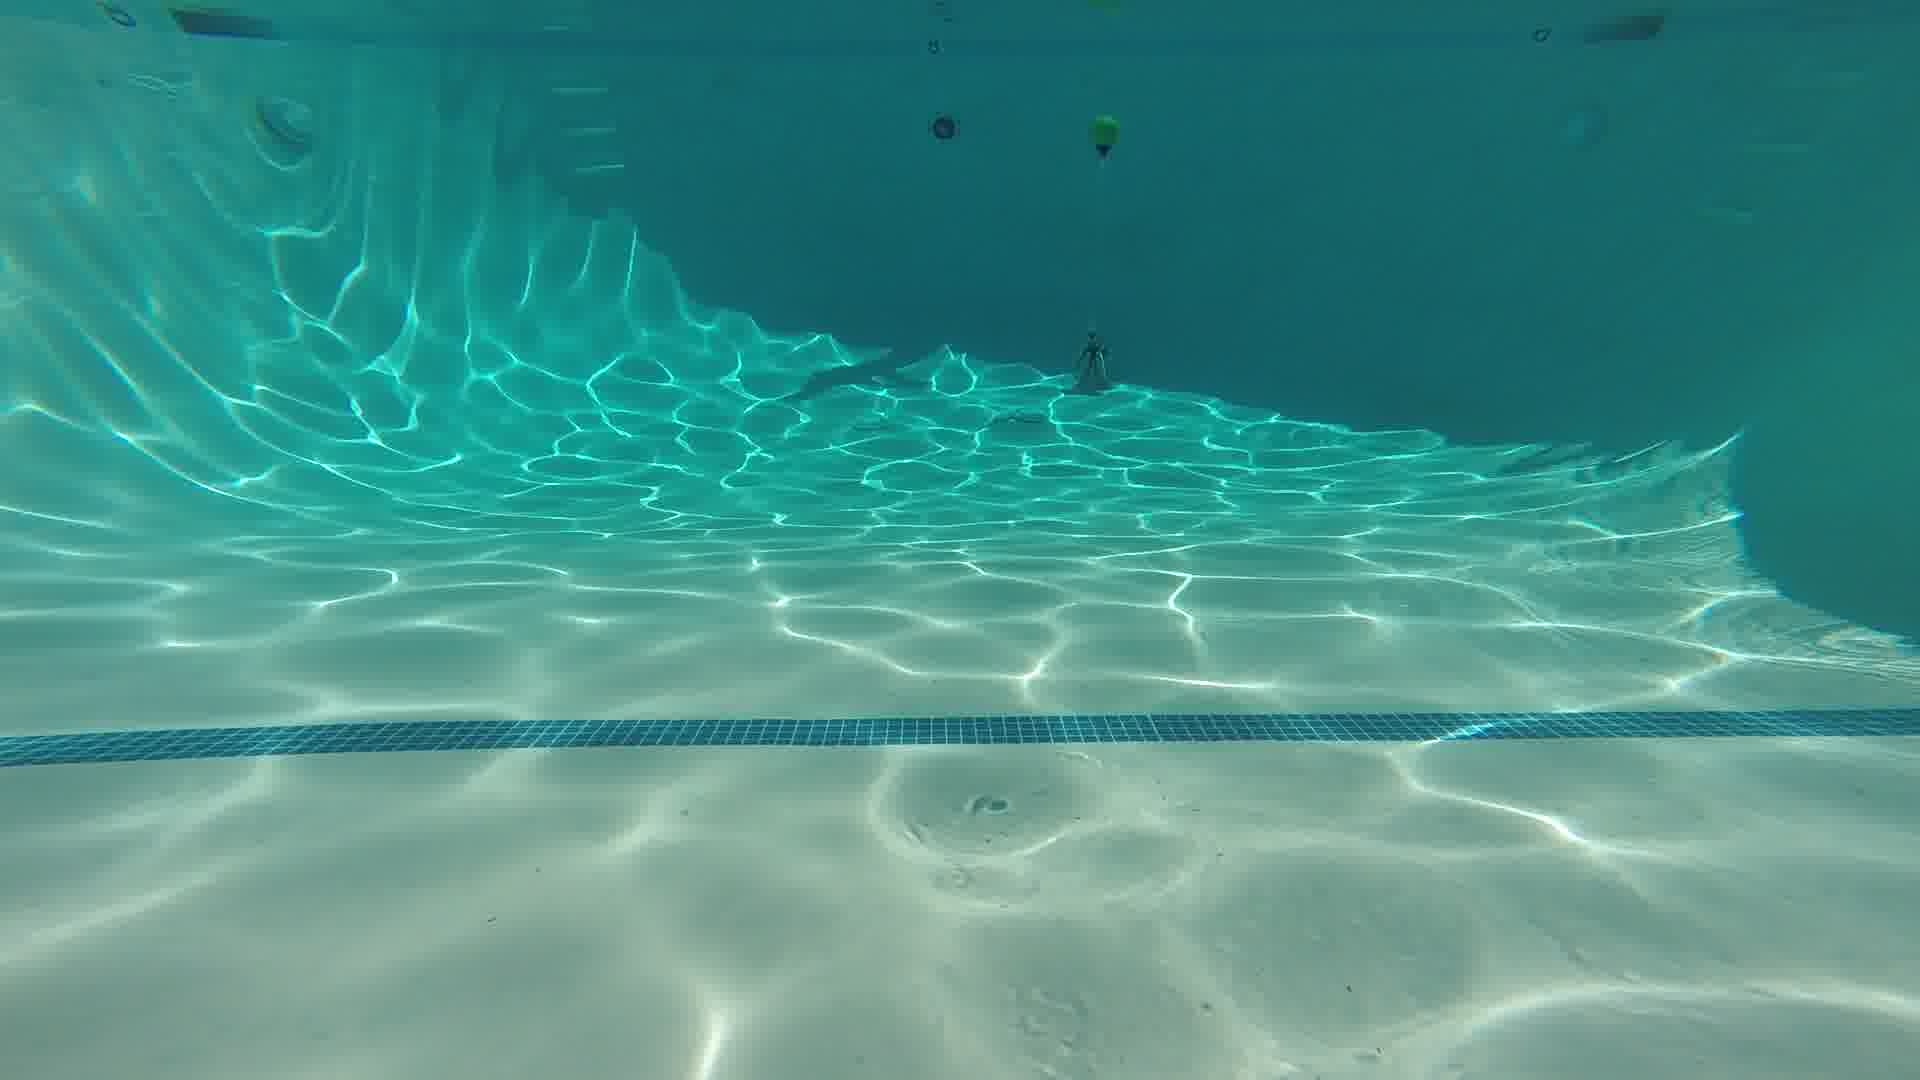yellow_buoy: (1087, 109, 1122, 164)
